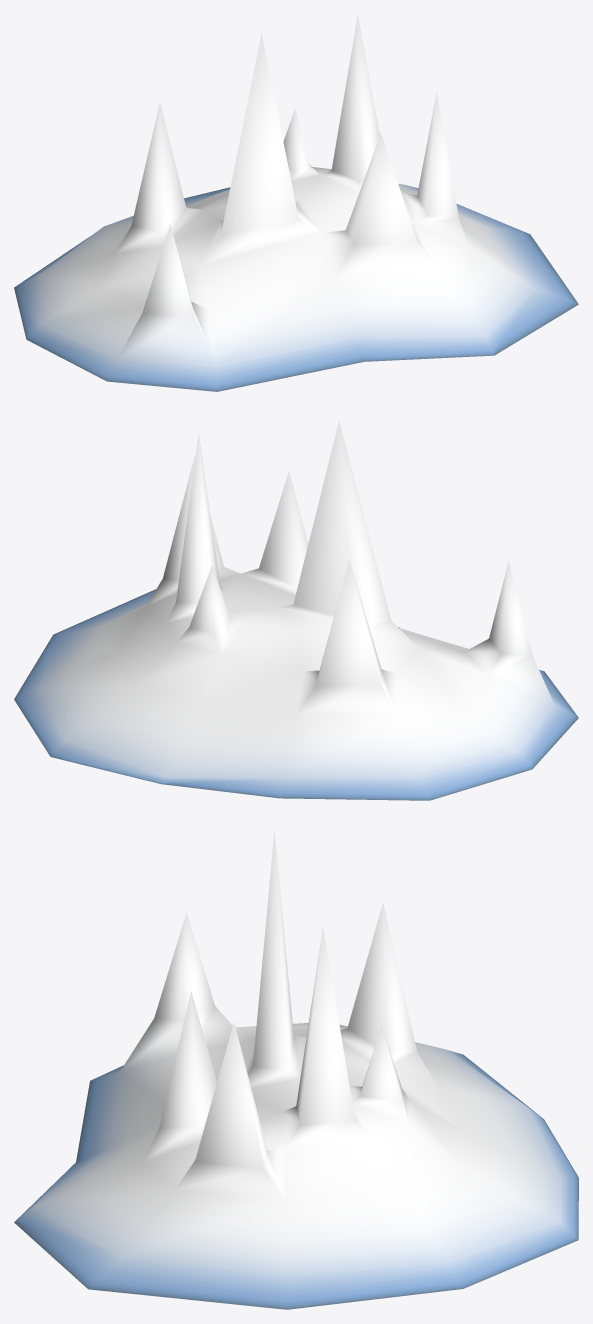
Rendered from deco_winter_snowPatchA_spikes.FBX.
The picture shows the model from 3 angles, top to bottom: view 1: azimuth 30°, elevation 25°; view 2: azimuth 150°, elevation 25°; view 3: azimuth 270°, elevation 25°; orthographic projection. The views are drawn at different scales.
Visible parts, largest first — view 1: deco_winter_snowPatchA_spikes; view 2: deco_winter_snowPatchA_spikes; view 3: deco_winter_snowPatchA_spikes.
Boxes of the visible parts, x1=… form: deco_winter_snowPatchA_spikes: x1=14, y1=14, x2=578, y2=391; deco_winter_snowPatchA_spikes: x1=14, y1=420, x2=578, y2=800; deco_winter_snowPatchA_spikes: x1=14, y1=829, x2=578, y2=1309.
Bounding box in the file's own units: 2.05 × 1.1 × 1.74.
1 material, 1 textured.
